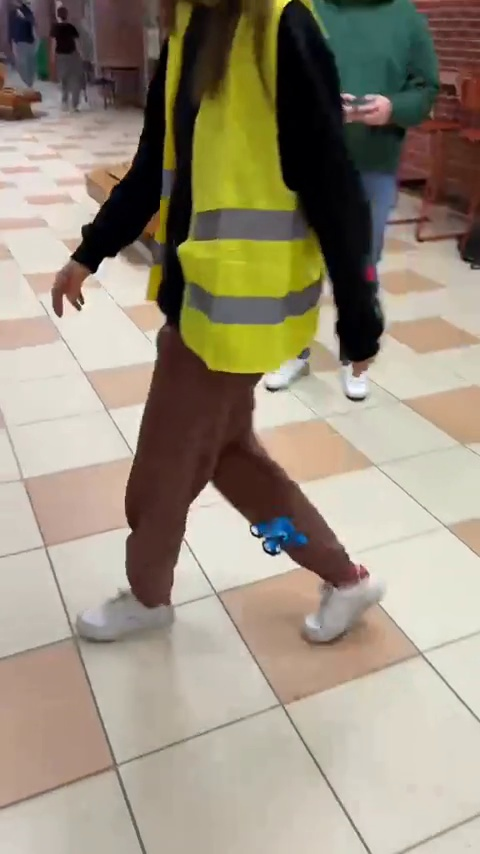drone: (242, 518, 307, 553)
no vest: (309, 0, 436, 400), (46, 4, 92, 113), (4, 4, 41, 82)
vest: (110, 3, 331, 623)
